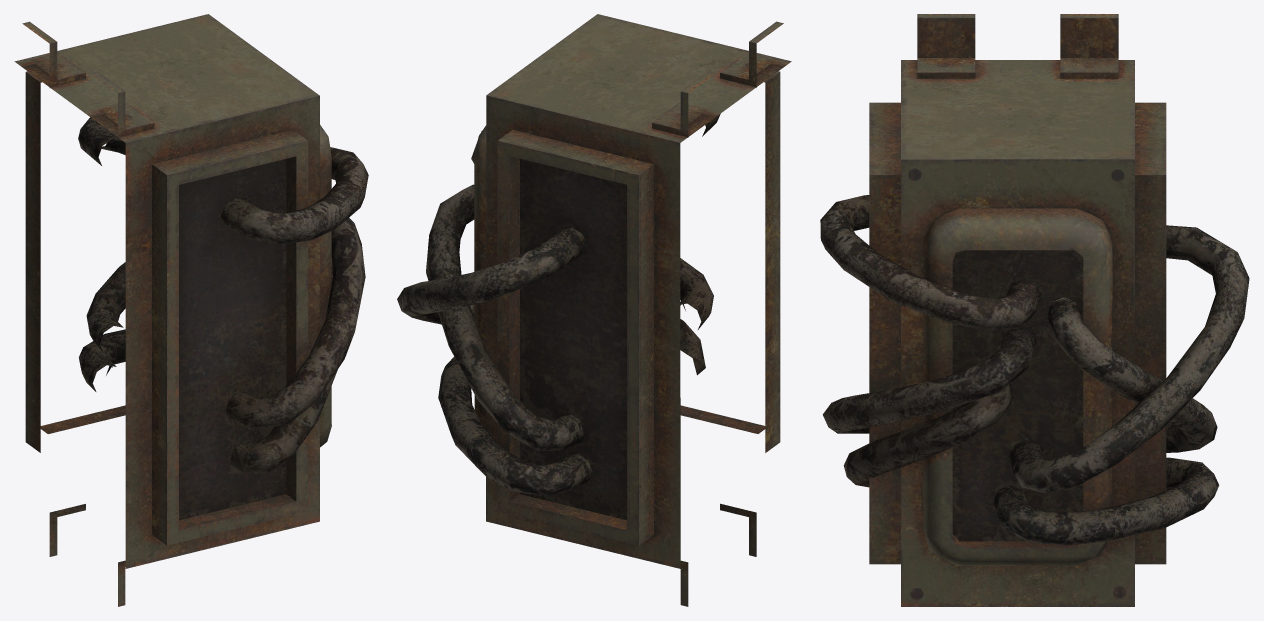
Rendered from SM_ElectricalBox02.glb.
3 renders of one model, left to right at view 1: azimuth 30°, elevation 25°; view 2: azimuth 150°, elevation 25°; view 3: azimuth 270°, elevation 25°, orthographic. The views are drawn at different scales.
Parts seen in each view (by area): view 1: SM_ElectricalBox02; view 2: SM_ElectricalBox02; view 3: SM_ElectricalBox02.
Boxes of the visible parts, left/top/right/bottom form: SM_ElectricalBox02: left=14, top=14, right=368, bottom=606; SM_ElectricalBox02: left=397, top=14, right=791, bottom=606; SM_ElectricalBox02: left=820, top=14, right=1249, bottom=606.
Bounding box in the file's own units: 0.1787 × 0.295 × 0.2127.
Materials: 1 (1 with a texture image).
